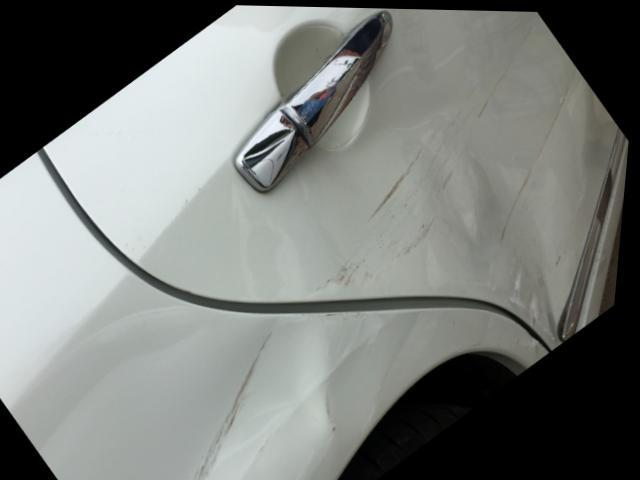dent: (20, 318, 344, 480), (399, 101, 593, 321), (249, 225, 316, 301)
scratch: (332, 164, 439, 285)
